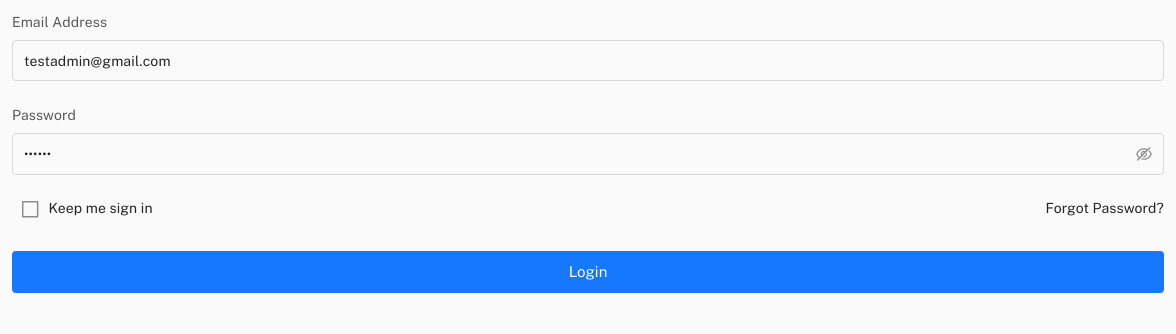
Scenario: AuthLogin Component › form validations › show error when password input is empty
The image size is (1176, 334).
Clear the password field with placeholder "Enter password" at (565, 154), box top-left (12, 133), bottom-right (1118, 174)
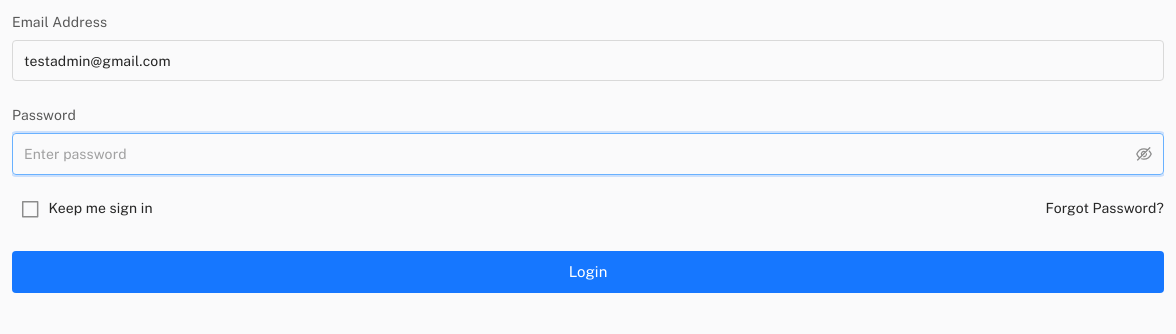
Press Enter
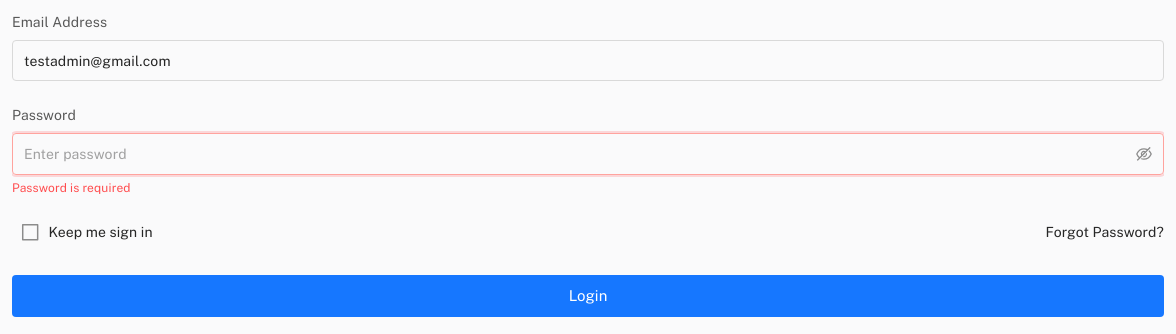
expect the text "Password is required" is shown: met, box top-left (12, 180), bottom-right (131, 194)
